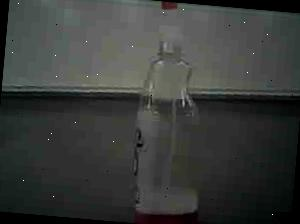hazard: (123, 1, 226, 224)
